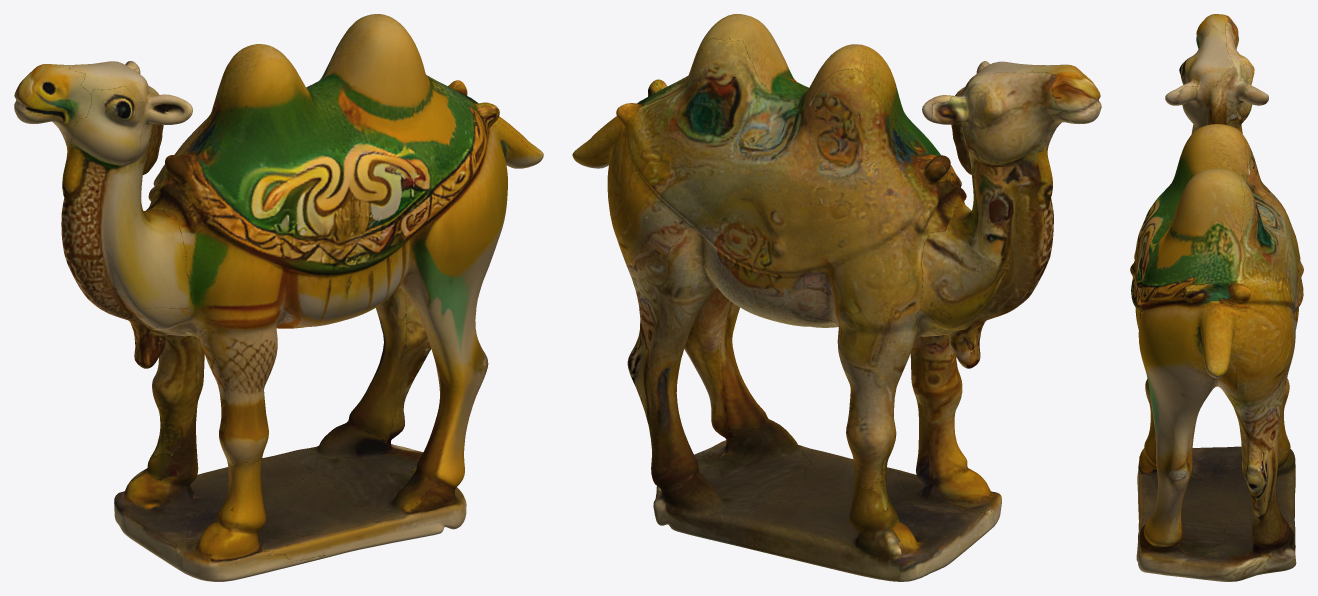
File: texgen_sd_13w.glb
3 renders of one model, left to right at view 1: azimuth 30°, elevation 25°; view 2: azimuth 150°, elevation 25°; view 3: azimuth 270°, elevation 25°, orthographic. The views are drawn at different scales.
Parts seen in each view (by area): view 1: texture_v128_amrb_13w_cfg2_hdr; view 2: texture_v128_amrb_13w_cfg2_hdr; view 3: texture_v128_amrb_13w_cfg2_hdr.
Boxes of the visible parts, x1,y1,x2,y2 form: texture_v128_amrb_13w_cfg2_hdr: (14, 14, 543, 581); texture_v128_amrb_13w_cfg2_hdr: (572, 14, 1101, 581); texture_v128_amrb_13w_cfg2_hdr: (1130, 14, 1303, 581).
Size of the model in its own units: 2 by 1.89 by 0.7158.
Materials: 1 (1 with a texture image).
